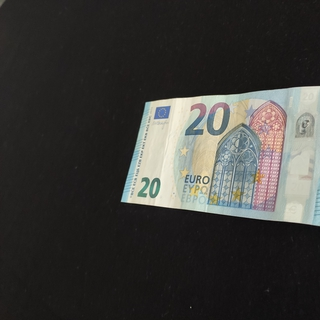20EUROFront: (120, 84, 320, 226)
